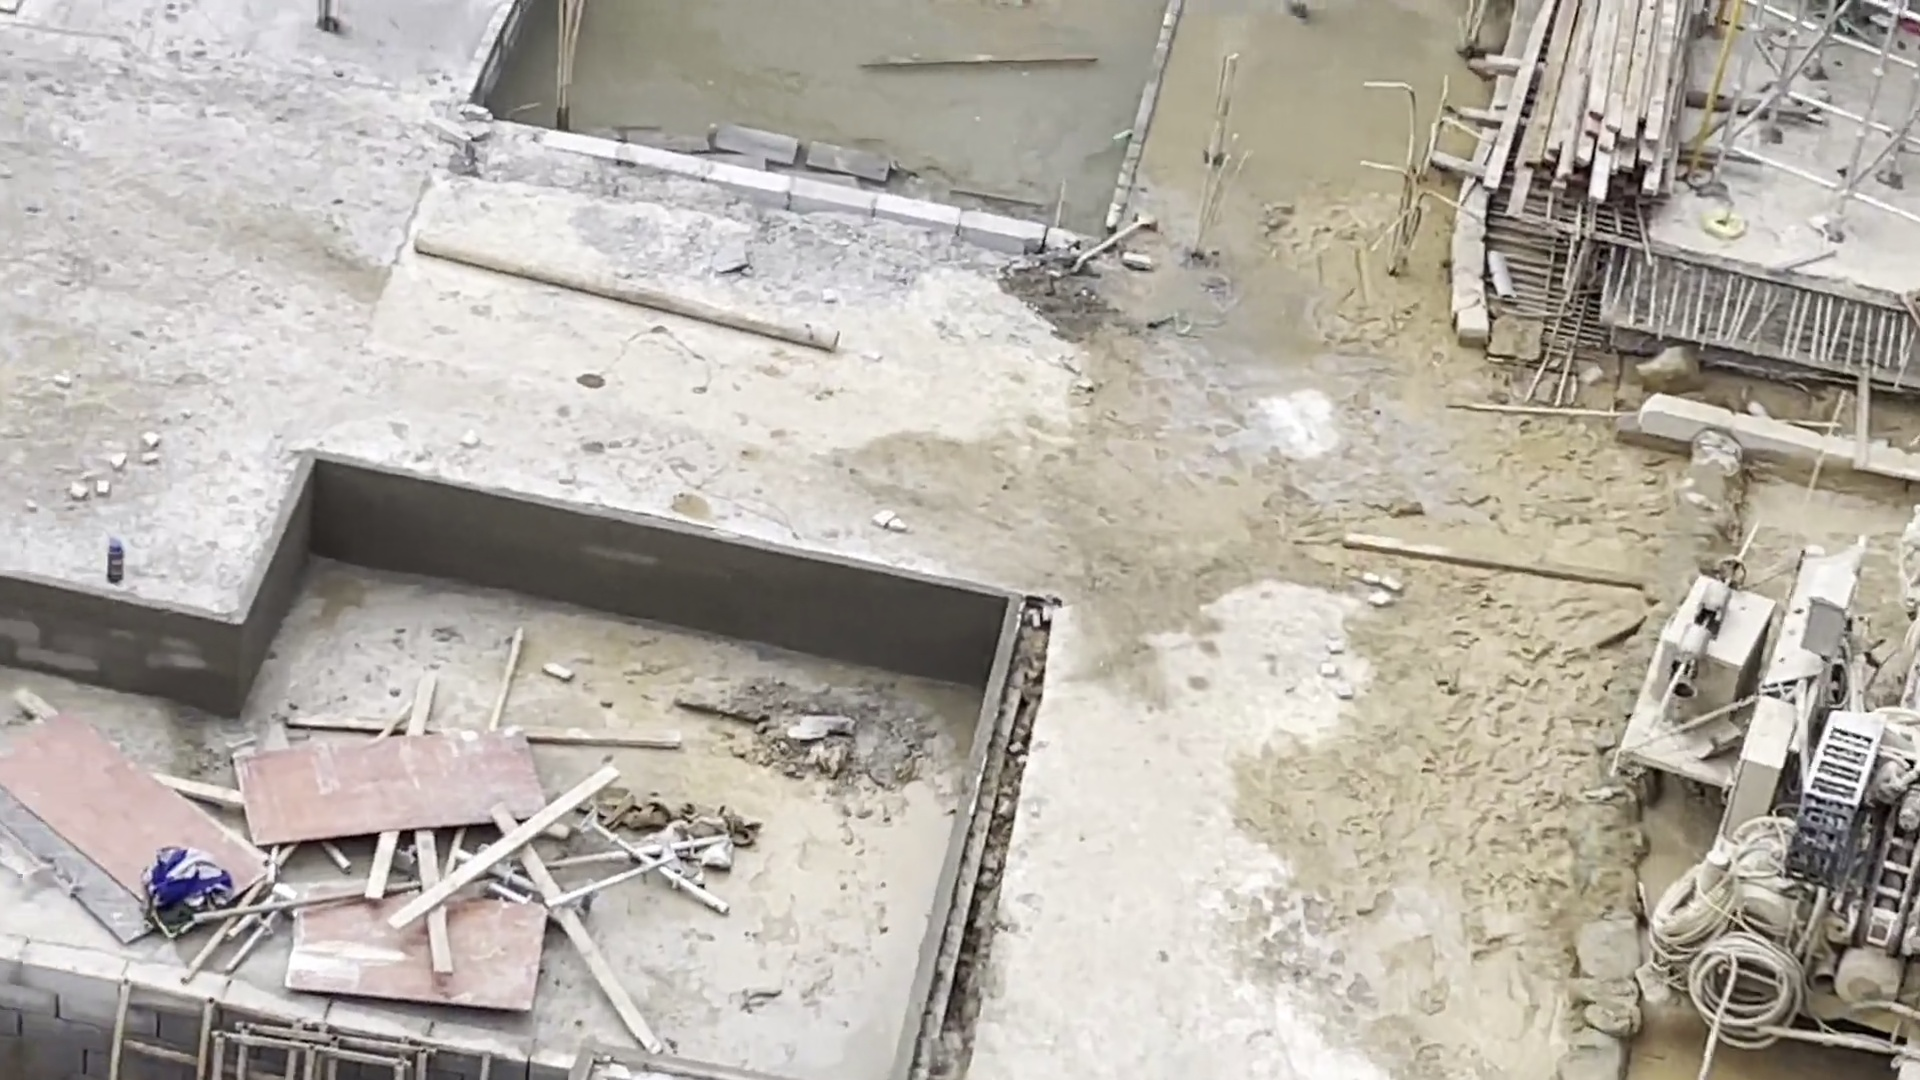wood: (1484, 1, 1698, 225)
